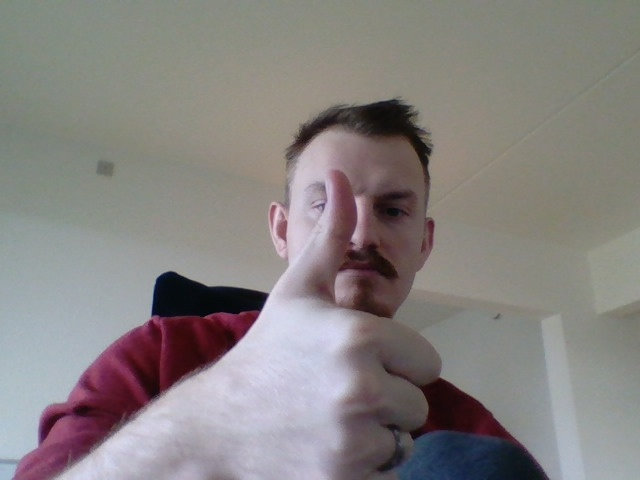ThumpsUp: (232, 170, 445, 480)
